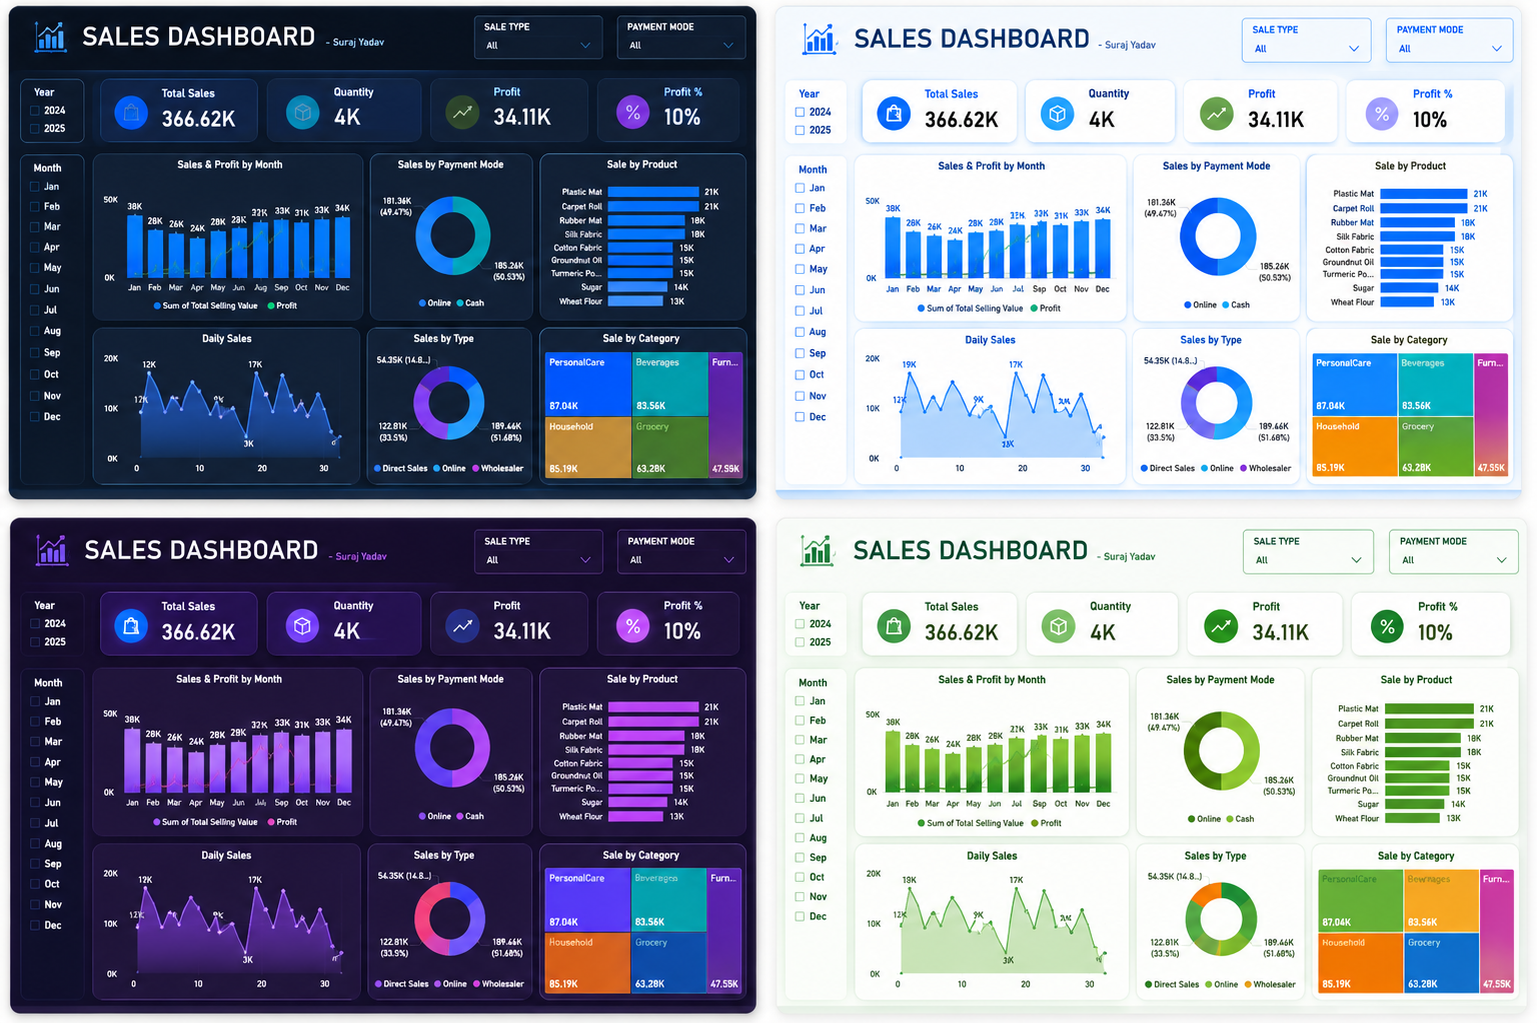

Layout of this report page (visuals, bound fields, positions):
{"tool":"powerbi","page":{"name":"Page 1","canvas":[1280,720],"ordinal":0},"visuals":[{"type":"textbox","box":[9.6,5,837.1,90.6],"z":0},{"type":"slicer","fields":{"Values":["InputData.Year"]},"box":[10,105,120,120],"z":1000},{"type":"slicer","fields":{"Values":["InputData.Month Name"]},"box":[9.6,235,120.8,475],"z":2000},{"type":"slicer","fields":{"Values":["InputData.SALE TYPE"]},"box":[857.6,5,199,90.6],"z":3000},{"type":"slicer","fields":{"Values":["InputData.PAYMENT MODE"]},"box":[1069,5,199,90.6],"z":4000},{"type":"image","box":[15.1,5.5,100.2,79.6],"z":5000},{"type":"textbox","box":[726.4,45.2,112.5,42.8],"z":6000},{"type":"cardVisual","title":"Total Sales","fields":{"Data":["Sum(InputData.Total Selling Value)"]},"box":[140,105,275,120],"z":7000},{"type":"cardVisual","title":"Quantity","fields":{"Data":["Sum(InputData.QUANTITY)"]},"box":[425,105,275,120],"z":8000},{"type":"cardVisual","title":"Profit","fields":{"Data":["InputData.Profit"]},"box":[710,105,275,120],"z":9000},{"type":"cardVisual","title":"Profit %","fields":{"Data":["InputData.Profit %"]},"box":[995,105,275,120],"z":10000},{"type":"columnChart","title":"Sales & Profit by Month","fields":{"Category":["InputData.Month Name"],"Y":["Sum(InputData.Total Selling Value)","InputData.Profit"]},"box":[140,235,445,245],"z":11000},{"type":"areaChart","title":"Daily Sales","fields":{"Category":["InputData.Day"],"Y":["Sum(InputData.Total Selling Value)"]},"box":[140,490,445,220],"z":12000},{"type":"clusteredBarChart","title":"Sale by Product","fields":{"Y":["Sum(InputData.Total Selling Value)"],"Category":["InputData.MasterData.PRODUCT"]},"box":[880,234.8,390,245.8],"z":13000},{"type":"treemap","title":"Sale by Category","fields":{"Group":["InputData.MasterData.CATEGORY"],"Values":["Sum(InputData.Total Selling Value)"]},"box":[880,490.4,390,220.1],"z":14000},{"type":"donutChart","title":"Sales by Payment Mode","fields":{"Y":["Sum(InputData.Total Selling Value)"],"Category":["InputData.PAYMENT MODE"]},"box":[595,235,275,245],"z":15000},{"type":"donutChart","title":"Sales by Type","fields":{"Y":["Sum(InputData.Total Selling Value)"],"Category":["InputData.SALE TYPE"]},"box":[595,490,276.4,220],"z":16000}]}

Visuals, with their boxes on the page's 1280x720 design canvas (x1, y1, x2, y2). These are canvas units, not pixel positions in the 1537x1023 screenshot, which may show the page scaled, cropped or inside an application window:
textbox: 10 5 847 96
slicer - InputData.Year: 10 105 130 225
slicer - InputData.Month Name: 10 235 130 710
slicer - InputData.SALE TYPE: 858 5 1057 96
slicer - InputData.PAYMENT MODE: 1069 5 1268 96
image: 15 6 115 85
textbox: 726 45 839 88
"Total Sales" cardVisual: 140 105 415 225
"Quantity" cardVisual: 425 105 700 225
"Profit" cardVisual: 710 105 985 225
"Profit %" cardVisual: 995 105 1270 225
"Sales & Profit by Month" columnChart: 140 235 585 480
"Daily Sales" areaChart: 140 490 585 710
"Sale by Product" clusteredBarChart: 880 235 1270 481
"Sale by Category" treemap: 880 490 1270 710
"Sales by Payment Mode" donutChart: 595 235 870 480
"Sales by Type" donutChart: 595 490 871 710
